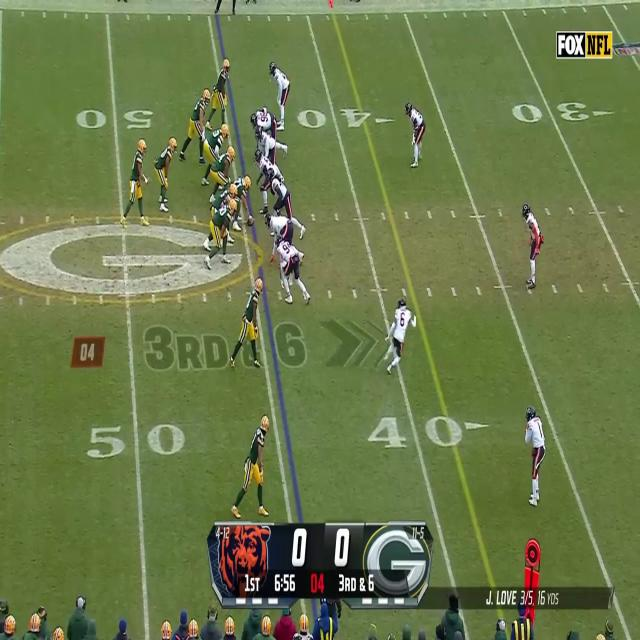Player: (239, 413, 271, 520), (236, 276, 264, 370), (275, 235, 311, 306), (385, 296, 416, 374), (524, 405, 546, 509), (125, 137, 148, 230), (205, 202, 236, 268), (521, 202, 543, 290), (185, 87, 209, 164), (154, 138, 178, 214), (206, 57, 230, 131), (269, 60, 291, 130), (404, 101, 426, 170), (266, 168, 294, 214), (254, 150, 273, 216), (209, 146, 235, 186), (202, 123, 230, 154), (264, 214, 293, 242), (233, 173, 254, 205), (250, 107, 278, 128), (254, 125, 274, 151), (211, 183, 236, 203)
